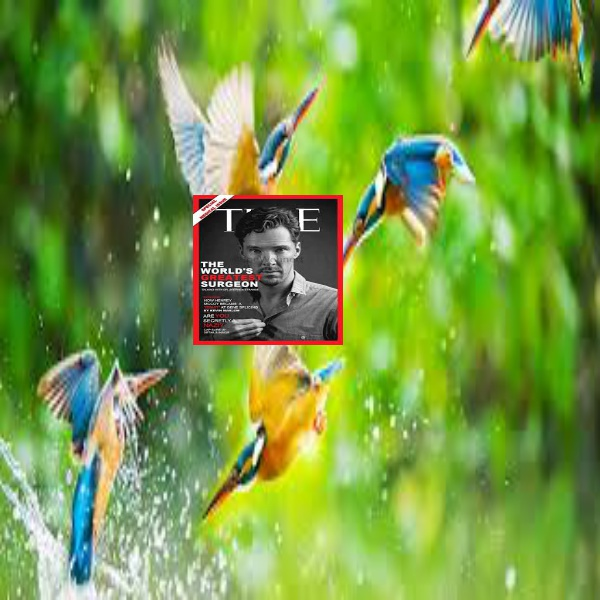time_cover: (184, 186, 343, 334)
